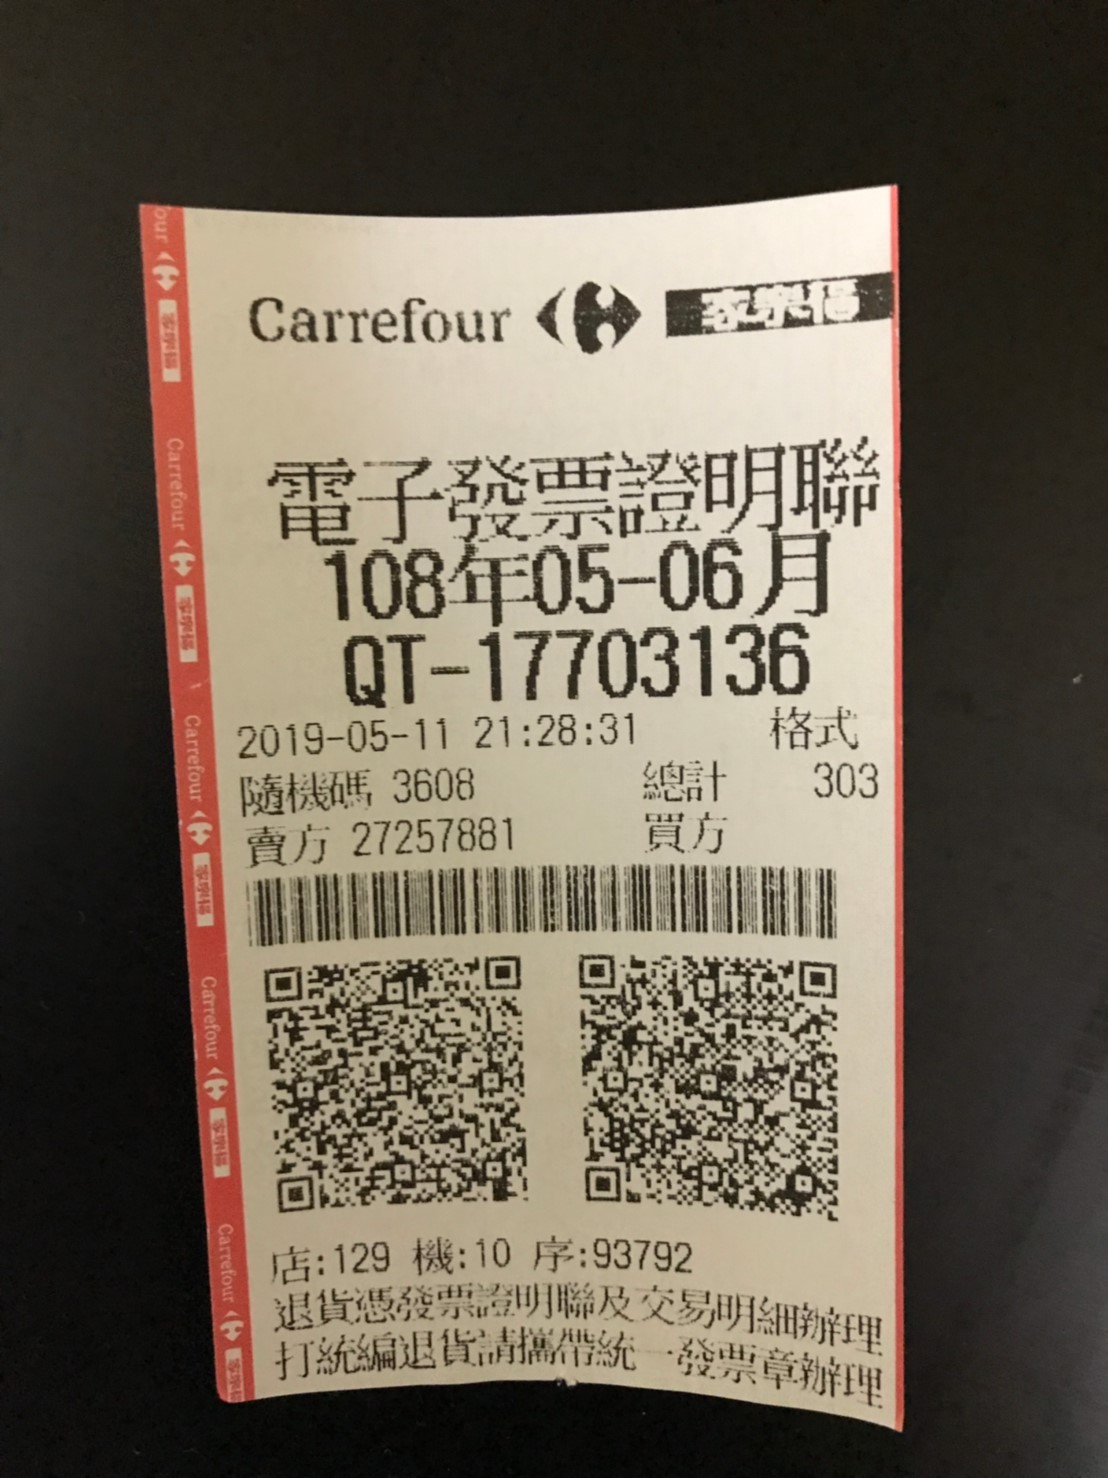Date_New: (318, 532, 841, 626)
Number_New: (475, 620, 818, 701)
